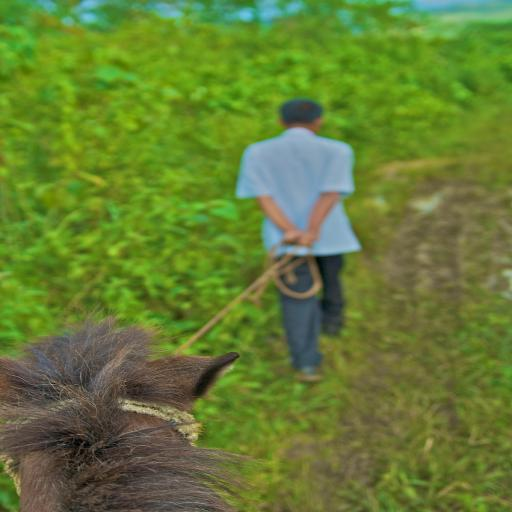Horse: (0, 310, 240, 512)
